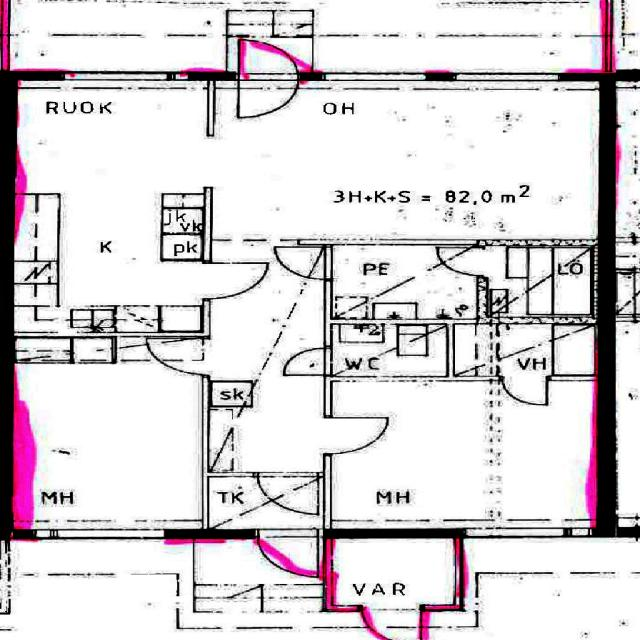door: (258, 530, 318, 574), (239, 71, 297, 116), (256, 472, 318, 514), (239, 36, 297, 80), (143, 338, 210, 374), (203, 263, 268, 299), (325, 418, 389, 454), (362, 605, 419, 640), (273, 246, 332, 278), (435, 248, 491, 275), (502, 376, 545, 407), (283, 348, 332, 373)
